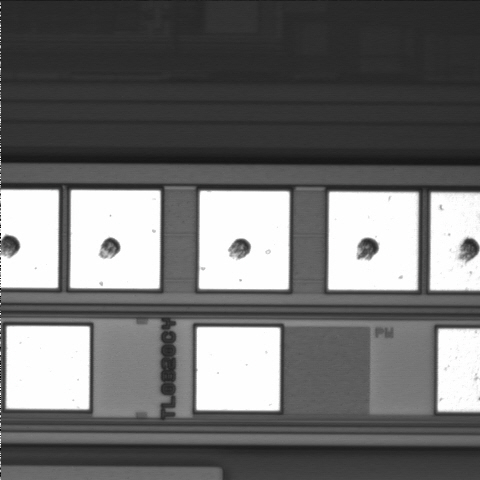pad: (70, 190, 160, 289), (199, 191, 289, 289), (328, 192, 418, 290), (196, 327, 280, 411), (6, 326, 90, 409)
